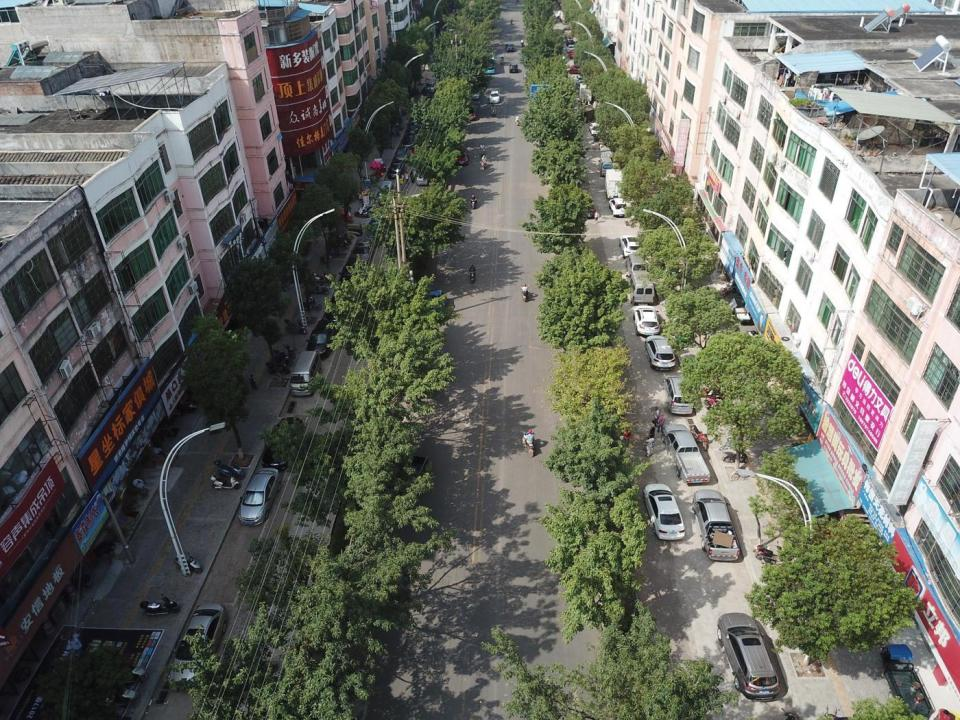bus: (483, 51, 495, 74)
car: (168, 605, 226, 687), (644, 483, 685, 540), (239, 468, 277, 526), (306, 320, 337, 360), (646, 335, 676, 372), (634, 305, 660, 337), (424, 290, 445, 322), (351, 239, 374, 268), (338, 258, 360, 288), (366, 214, 386, 240), (619, 236, 642, 258), (609, 198, 628, 218), (388, 158, 405, 180), (379, 180, 393, 204), (580, 198, 595, 219), (331, 210, 353, 224), (394, 147, 410, 162), (455, 148, 469, 164), (402, 134, 415, 149), (566, 65, 586, 74), (588, 123, 601, 135), (489, 90, 500, 103), (466, 107, 475, 120), (470, 88, 479, 99), (509, 63, 518, 73), (576, 74, 584, 84), (576, 82, 586, 90), (506, 43, 514, 52), (569, 50, 578, 57), (567, 45, 575, 52), (566, 38, 574, 45), (564, 27, 570, 35)
truck: (884, 644, 932, 720), (692, 489, 740, 562), (662, 424, 710, 483), (606, 169, 625, 199), (580, 83, 593, 104)
van: (717, 613, 781, 701), (290, 351, 322, 397), (663, 375, 693, 415), (628, 272, 654, 305), (625, 254, 648, 276), (598, 158, 612, 177), (417, 166, 428, 185)
